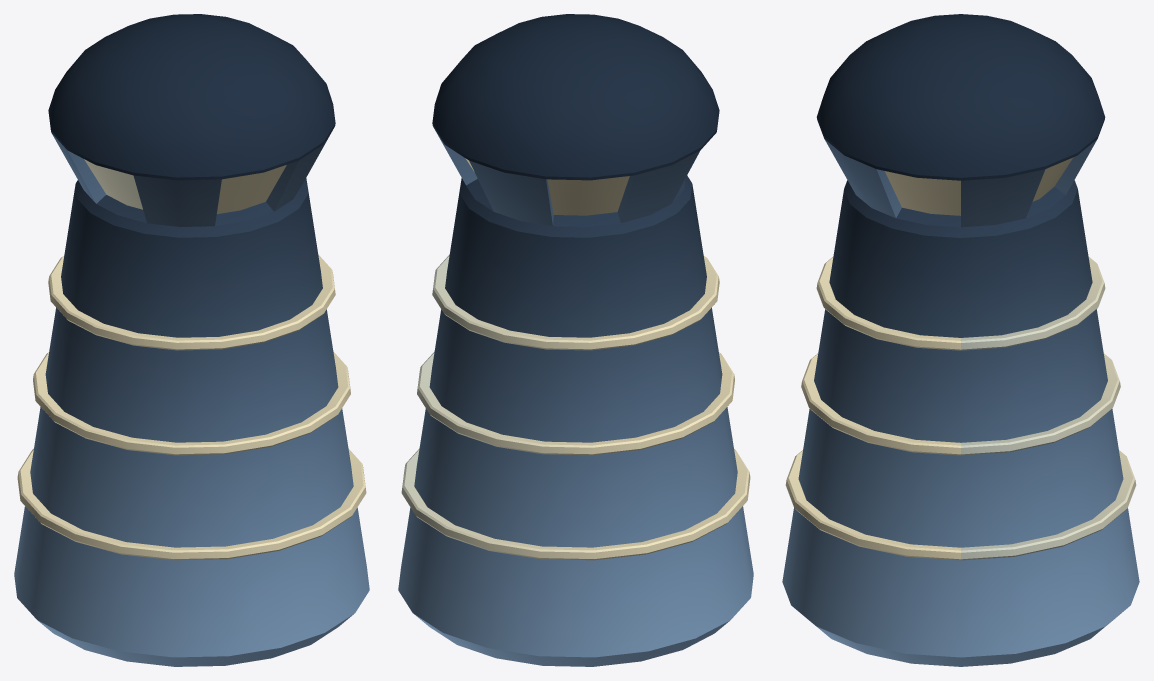
Rendered from ENV_Spire_04.FBX.
The picture shows the model from 3 angles, left to right: view 1: azimuth 30°, elevation 25°; view 2: azimuth 150°, elevation 25°; view 3: azimuth 270°, elevation 25°; orthographic projection.
Visible parts, largest first — view 1: ENV_Spire_04; view 2: ENV_Spire_04; view 3: ENV_Spire_04.
Boxes of the visible parts, bbox=[...] form: ENV_Spire_04: bbox=[14, 14, 369, 666]; ENV_Spire_04: bbox=[398, 14, 753, 666]; ENV_Spire_04: bbox=[782, 14, 1139, 666].
Bounding box in the file's own units: 495 × 866 × 495.
Materials: 2 (2 with a texture image).
